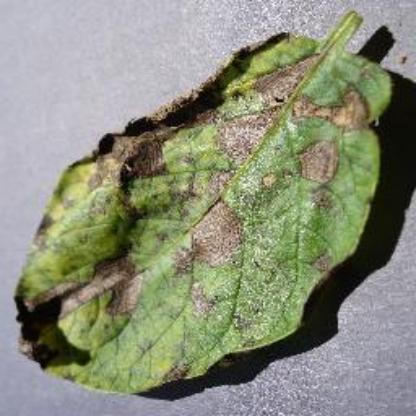Early-Blight: (19, 11, 397, 409)
